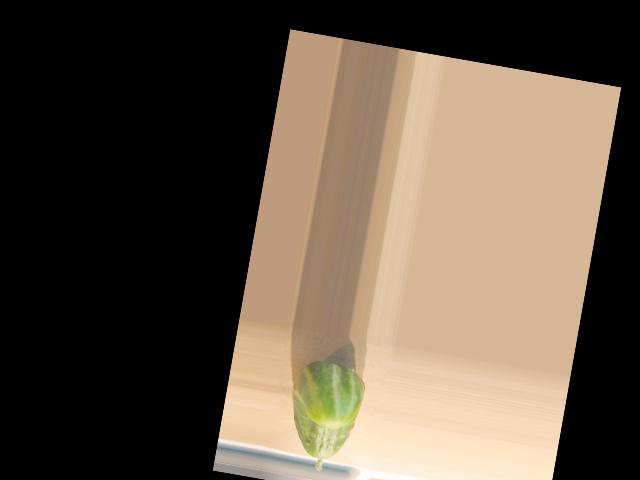cucumber: (280, 356, 369, 476)
